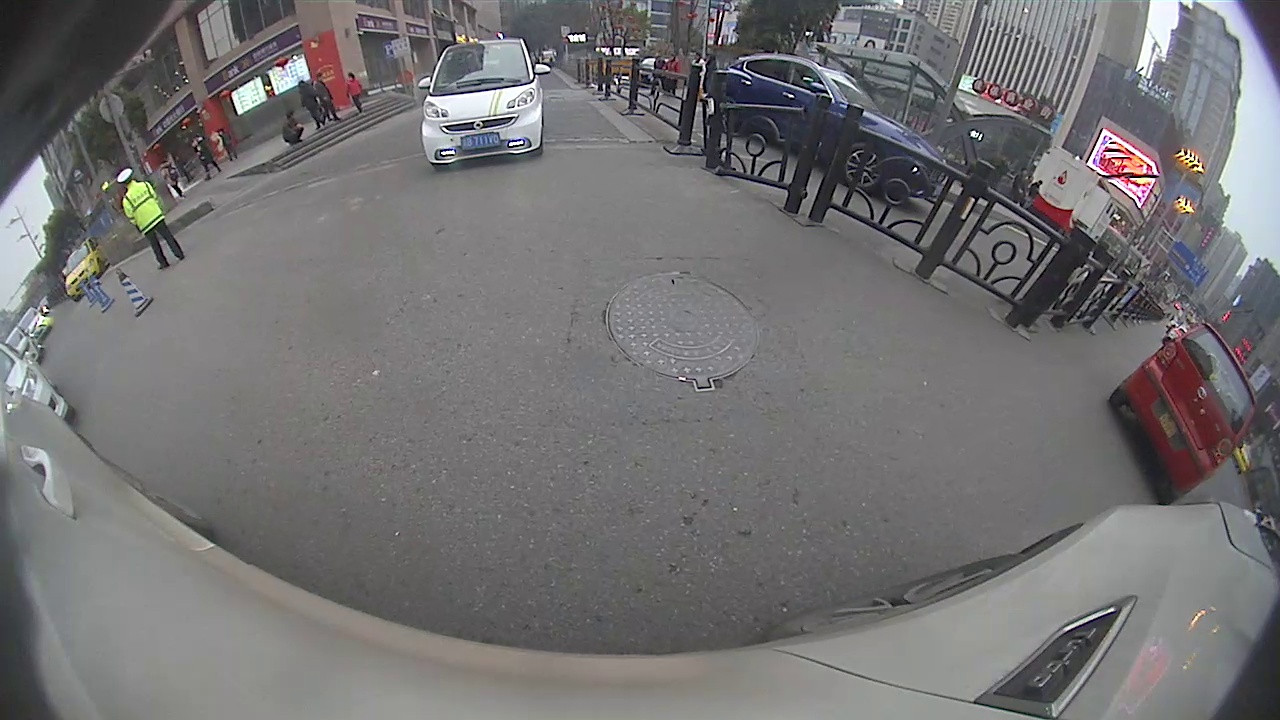car: (706, 53, 947, 207), (1107, 323, 1258, 506), (418, 37, 550, 171)
front: (844, 139, 883, 192)
person: (116, 170, 168, 270), (297, 81, 324, 134), (344, 71, 363, 114), (280, 111, 303, 146)
